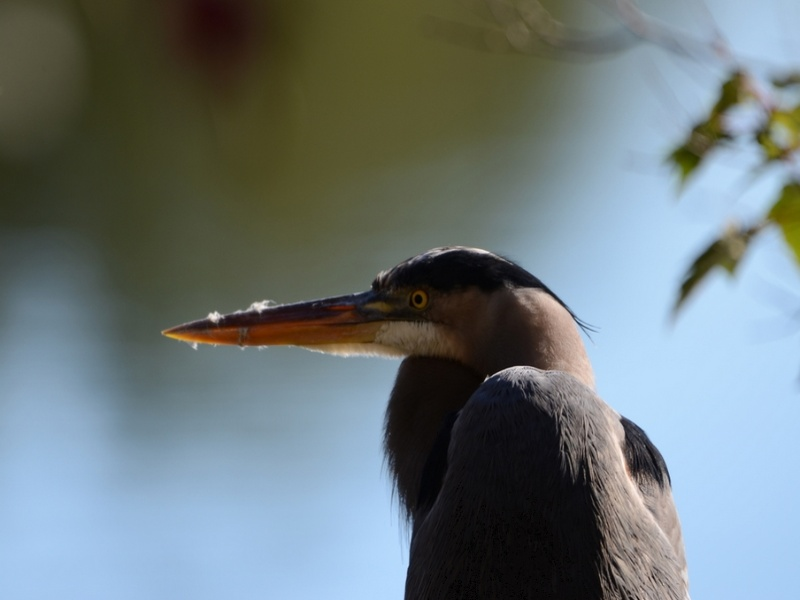heron: (157, 242, 700, 599)
